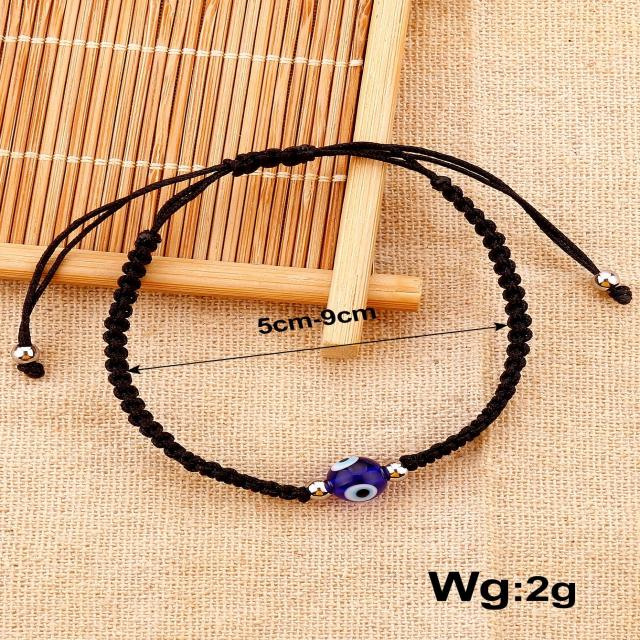bracelet: (5, 83, 640, 540)
